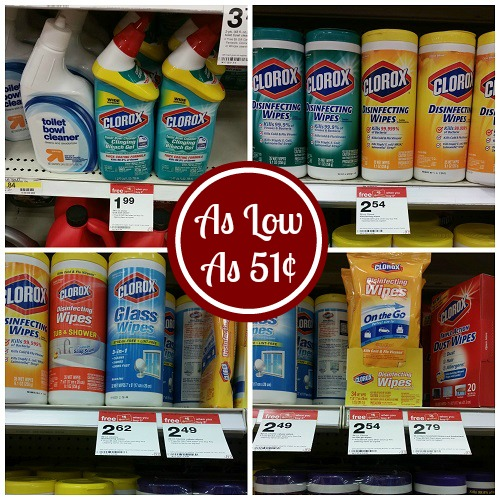Wipes: (411, 24, 479, 189), (103, 249, 169, 412), (247, 20, 308, 184), (358, 26, 420, 186), (45, 249, 104, 412), (303, 22, 361, 183), (4, 251, 49, 410), (462, 23, 500, 190)
